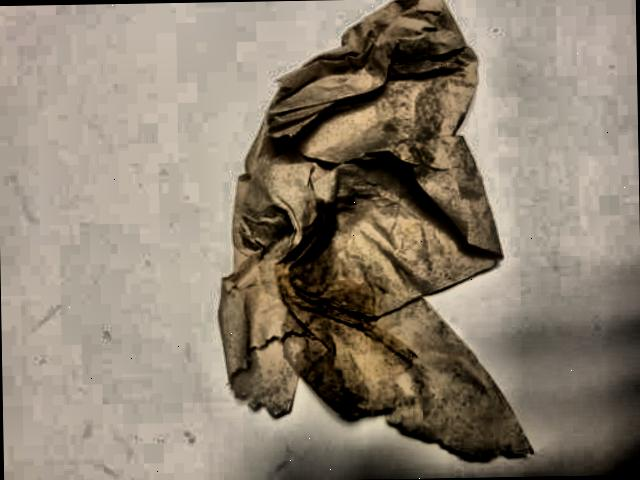Paper: (212, 0, 540, 480)
